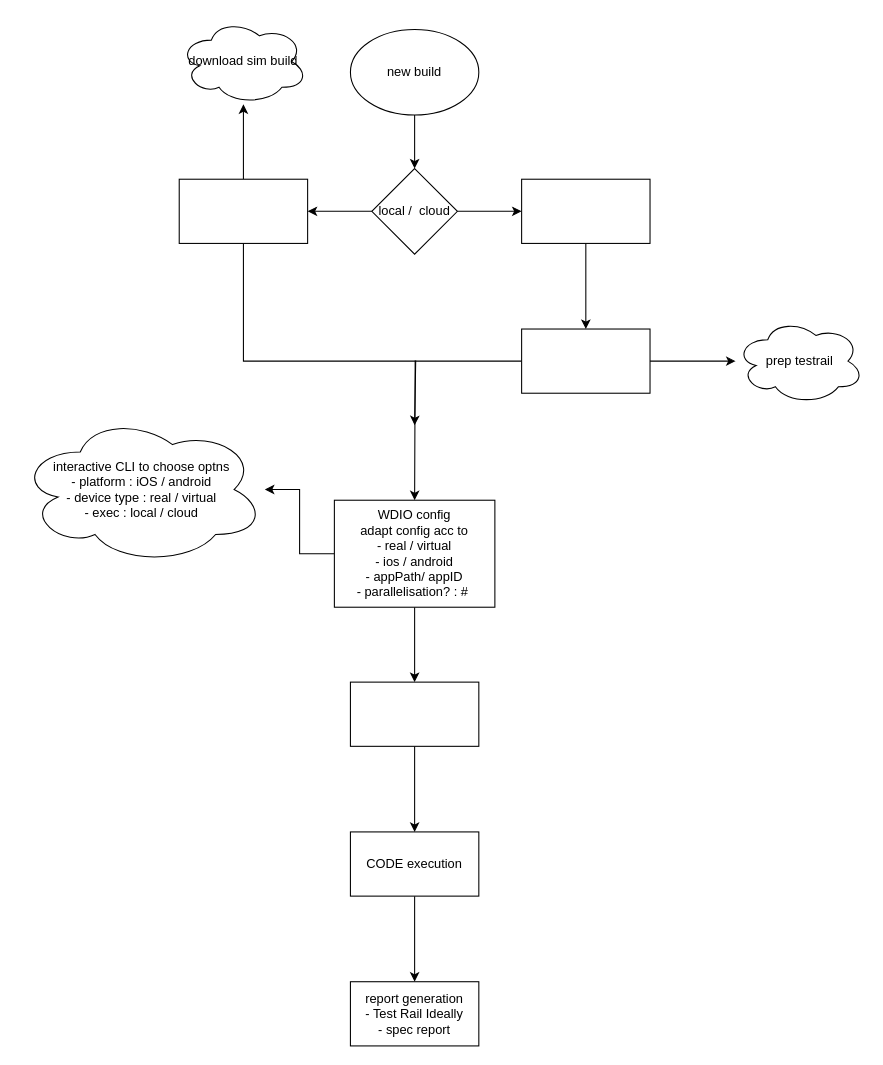
Some shapes in this 883 by 1065 pixel diagram are drawn without their labels. The shapes that lost their labels are listed below. From the top down, each one's centre as x and y in pixels, then its label:
(243,210): local
(585,210): cloud exec
(585,360): download build & upload
(414,713): collects tests and runs them
